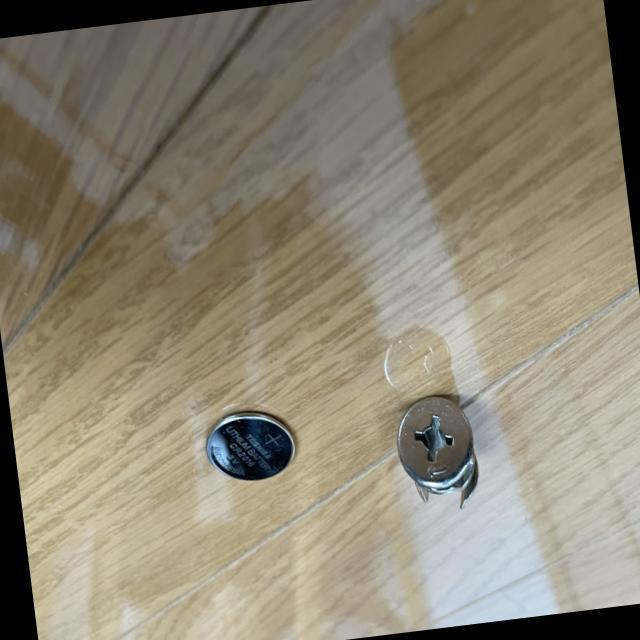COIN: (202, 407, 297, 485)
